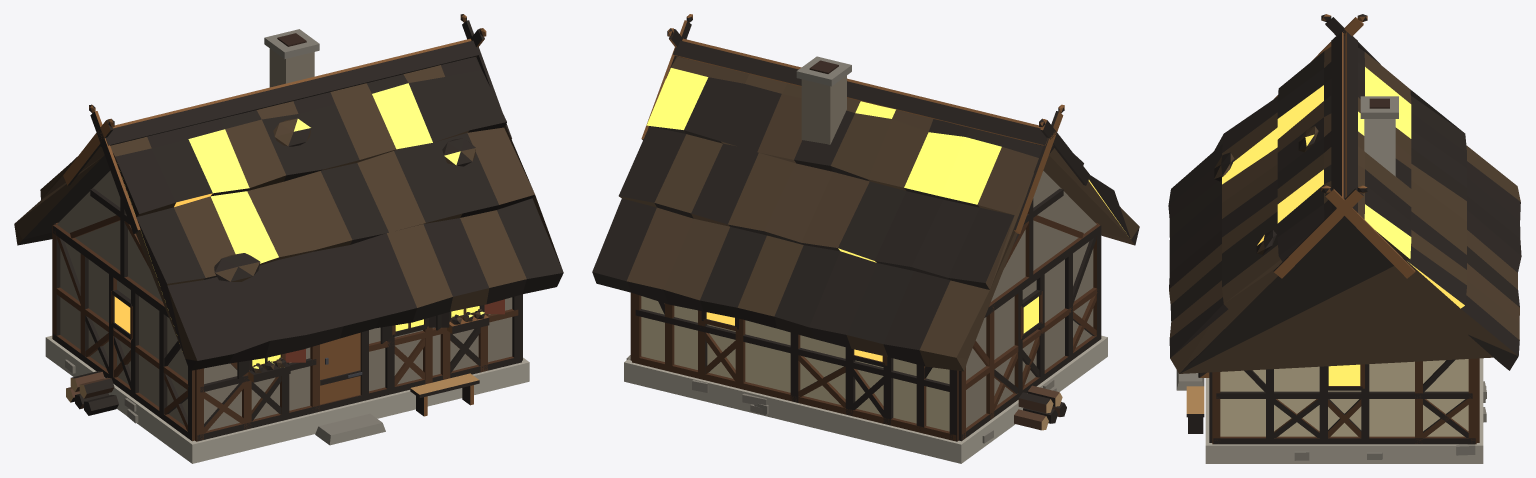
File: Dorf_Hofhaus_Beschaedigt.fbx
The picture shows the model from 3 angles, left to right: view 1: azimuth 30°, elevation 25°; view 2: azimuth 150°, elevation 25°; view 3: azimuth 270°, elevation 25°; orthographic projection. The views are drawn at different scales.
Parts seen in each view (by area): view 1: Dorf_Hofhaus_Beschaedigt; view 2: Dorf_Hofhaus_Beschaedigt; view 3: Dorf_Hofhaus_Beschaedigt.
Boxes of the visible parts, left/top/right/bottom form: Dorf_Hofhaus_Beschaedigt: left=14, top=14, right=563, bottom=463; Dorf_Hofhaus_Beschaedigt: left=592, top=14, right=1139, bottom=463; Dorf_Hofhaus_Beschaedigt: left=1168, top=14, right=1521, bottom=463.
Bounding box in the file's own units: 8.36 × 6.42 × 7.
